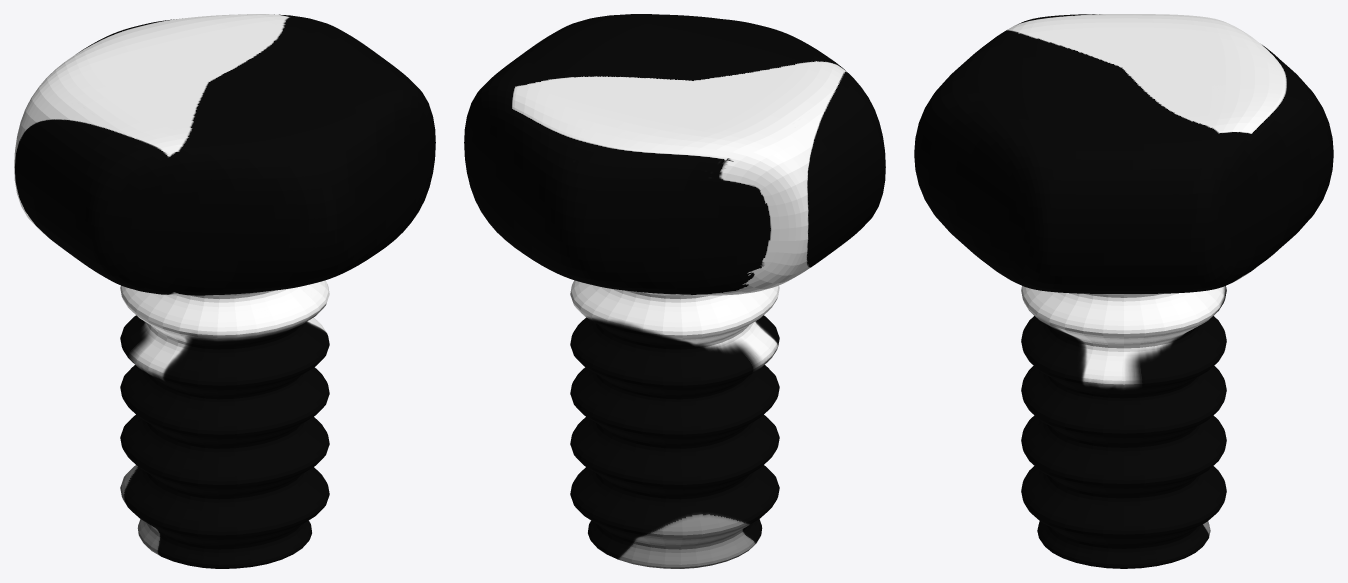
File: screw.obj
3 renders of one model, left to right at view 1: azimuth 30°, elevation 25°; view 2: azimuth 150°, elevation 25°; view 3: azimuth 270°, elevation 25°, orthographic.
Visible parts, largest first — view 1: Cube.002, Cube, Cube.001; view 2: Cube.002, Cube, Cube.001; view 3: Cube.002, Cube, Cube.001.
Part boxes in pixels (x1=…): Cube.002: x1=14, y1=14, x2=435, y2=295; Cube: x1=120, y1=365, x2=329, y2=568; Cube.001: x1=120, y1=280, x2=329, y2=399; Cube.002: x1=464, y1=14, x2=885, y2=295; Cube: x1=570, y1=365, x2=779, y2=568; Cube.001: x1=570, y1=280, x2=779, y2=399; Cube.002: x1=914, y1=14, x2=1333, y2=293; Cube: x1=1021, y1=365, x2=1226, y2=568; Cube.001: x1=1021, y1=286, x2=1226, y2=398.
Size of the model in its own units: 5.72 by 7.29 by 5.98.
